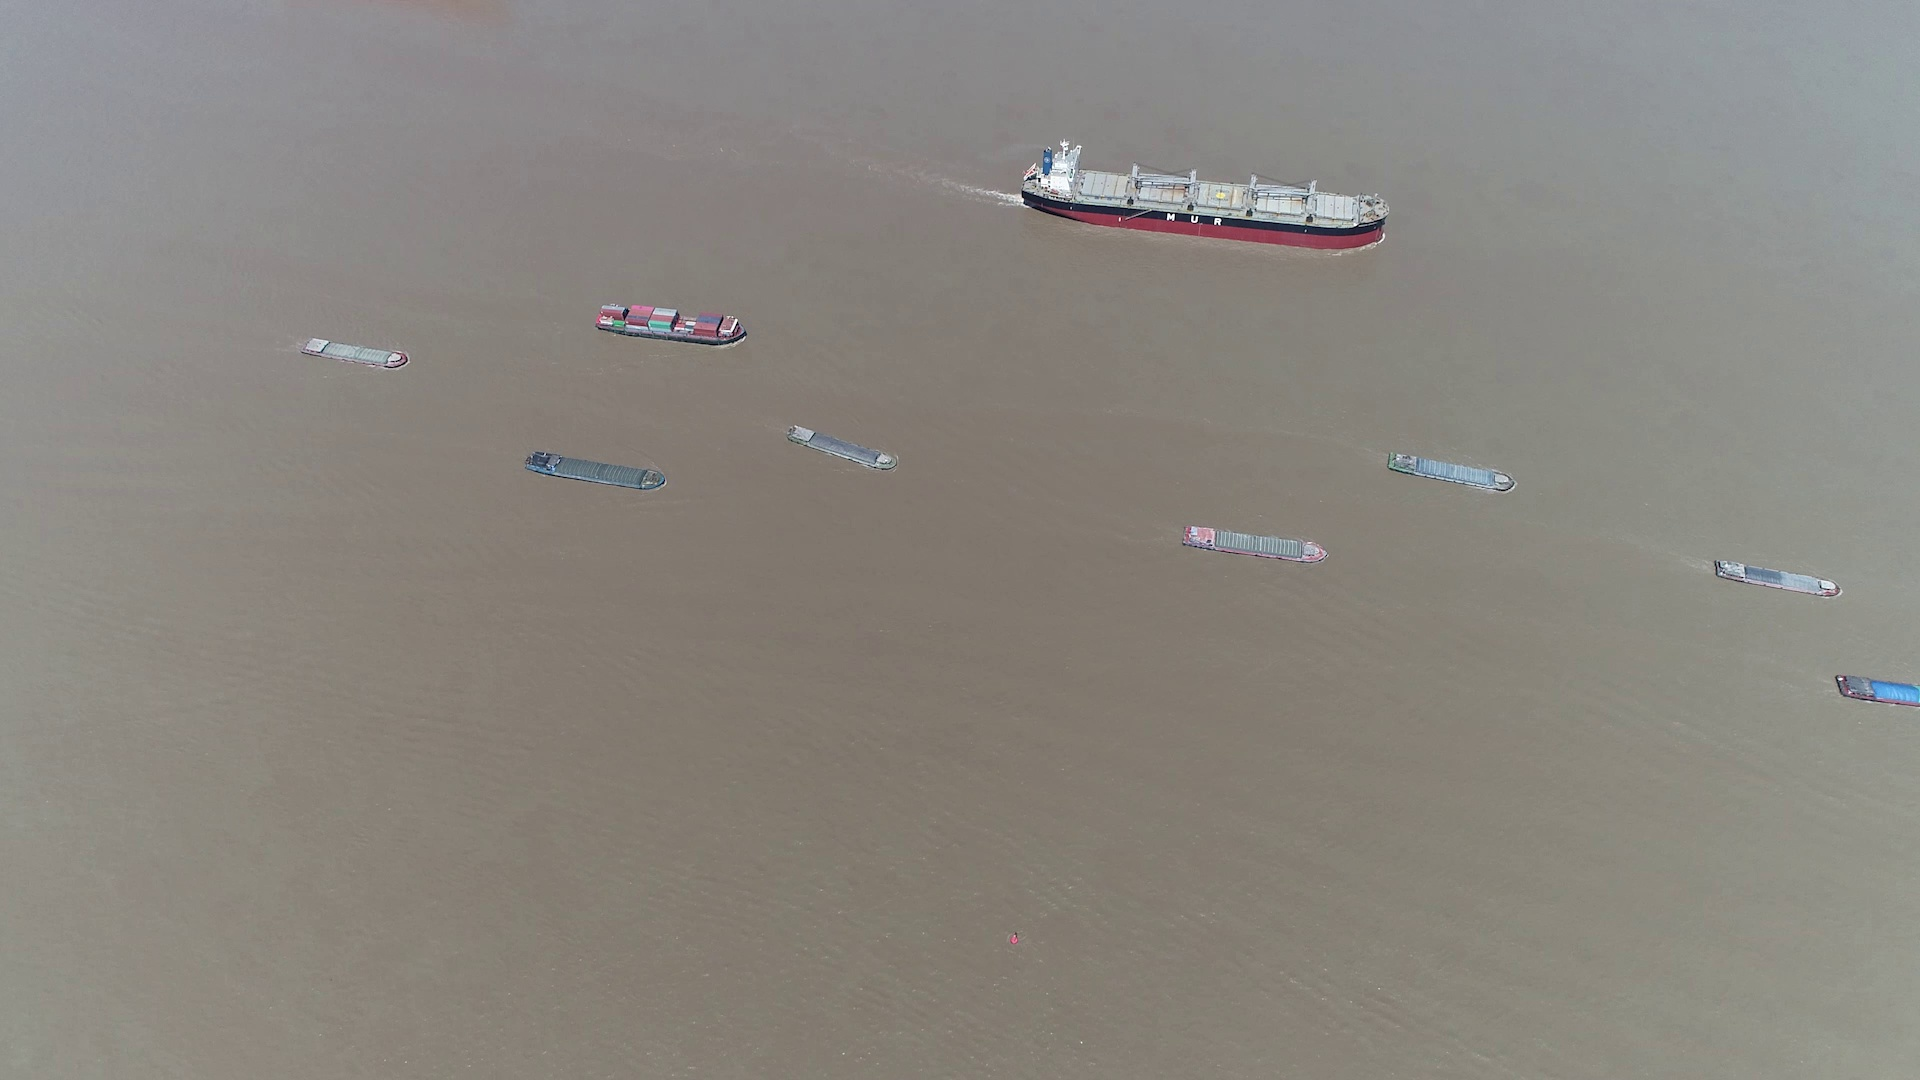ship: (1023, 146, 1389, 247), (595, 303, 752, 345), (524, 450, 665, 492), (1183, 526, 1327, 564), (1387, 452, 1516, 495), (789, 426, 898, 475), (1713, 558, 1840, 597), (302, 336, 410, 371), (1836, 674, 1919, 709)
